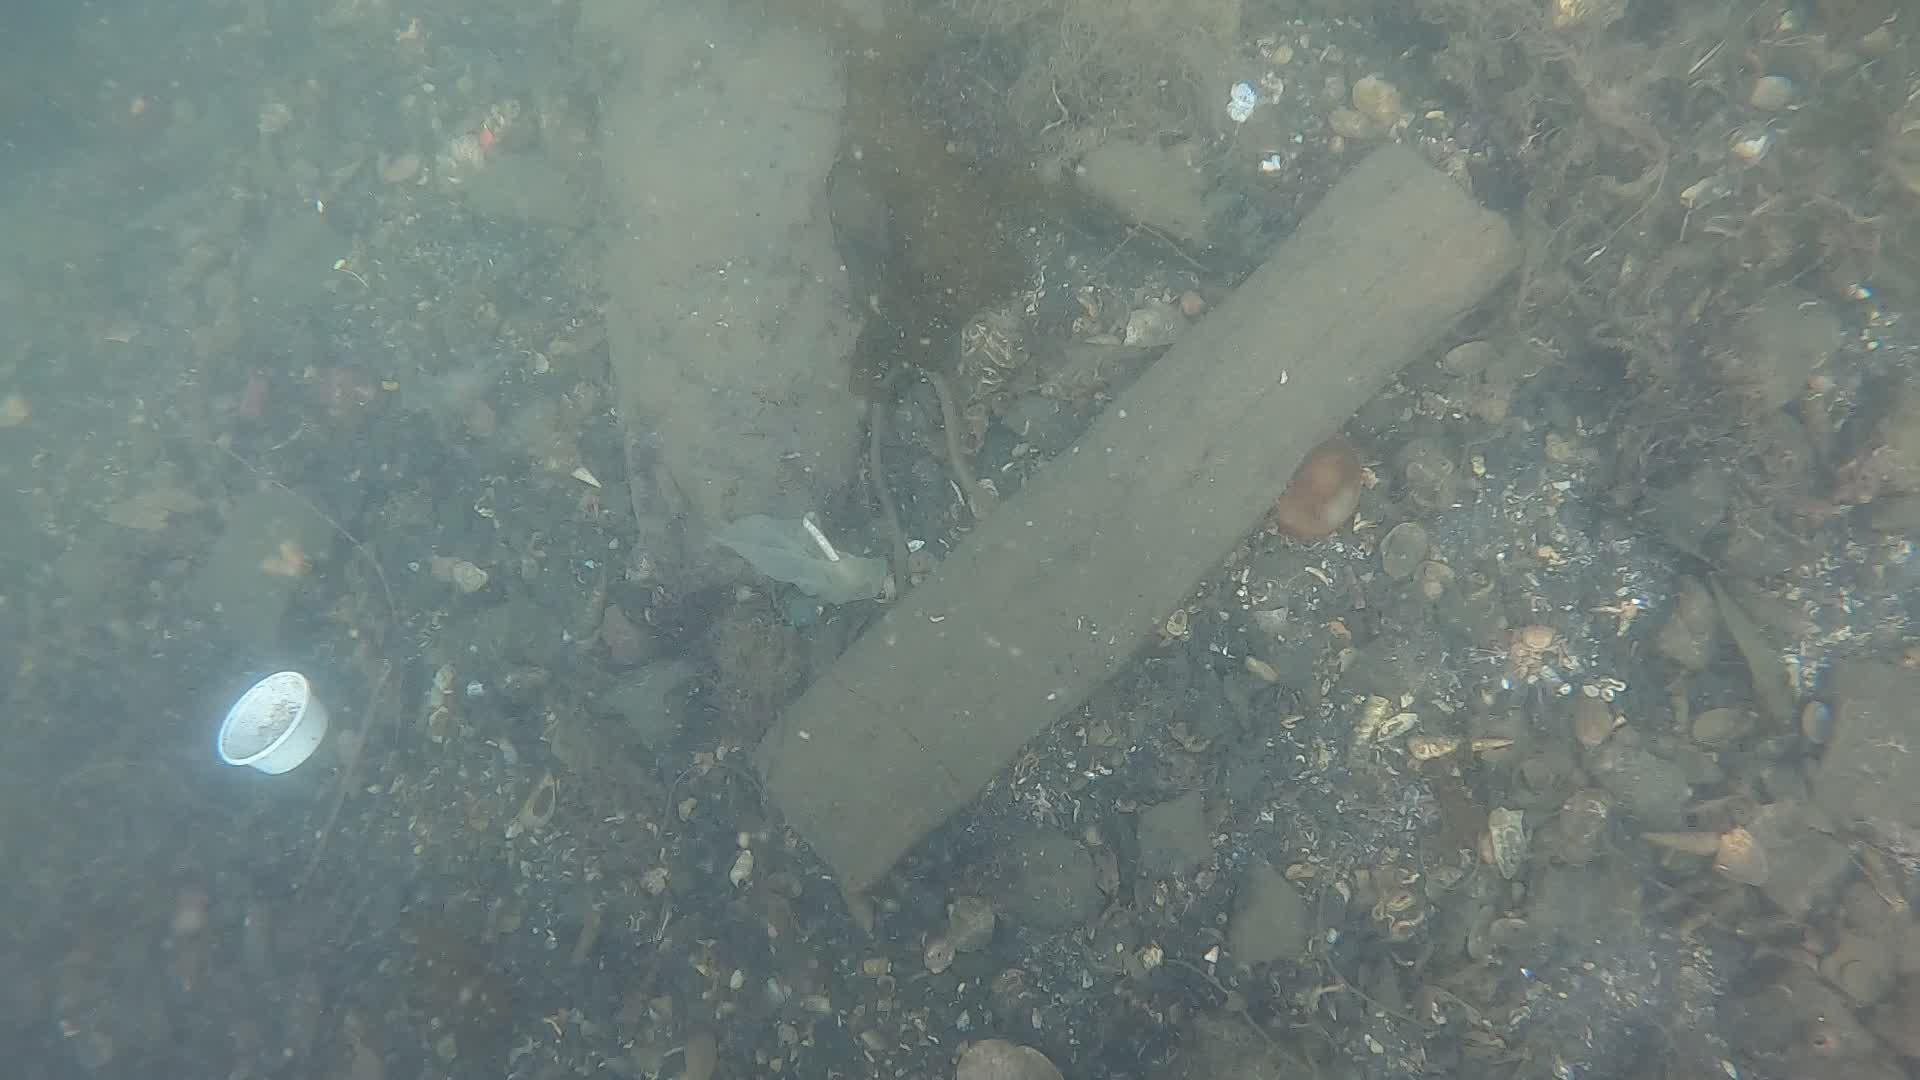wood: (744, 136, 1524, 893)
